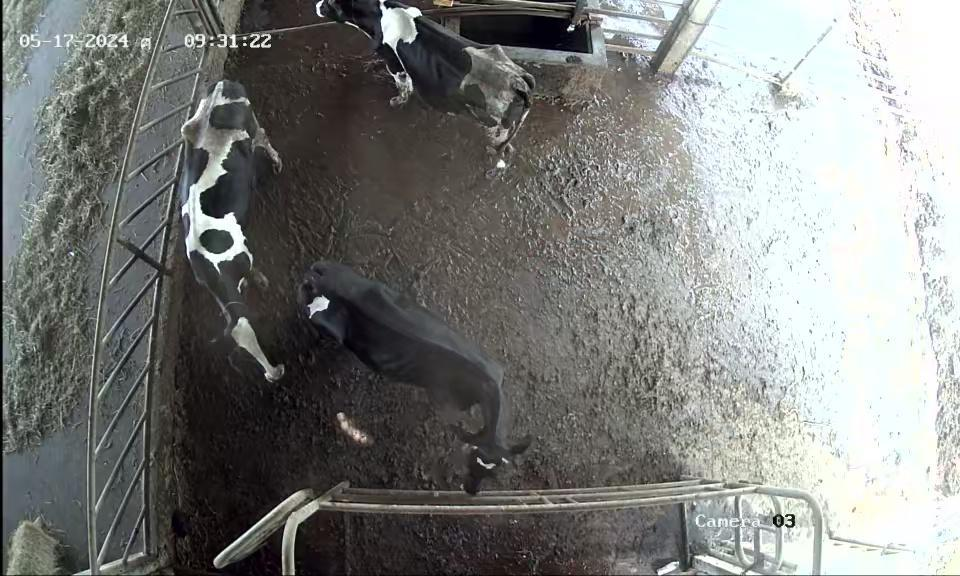stand: (297, 238, 532, 499), (313, 0, 541, 179), (176, 72, 298, 403)
